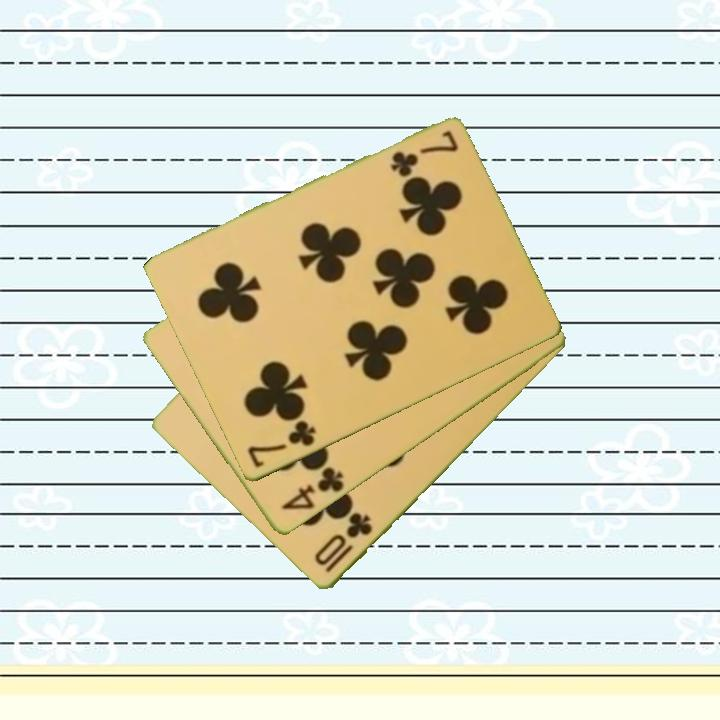10c: (310, 509, 376, 576)
4c: (278, 463, 347, 514)
7c: (243, 417, 319, 471), (387, 127, 461, 179)
